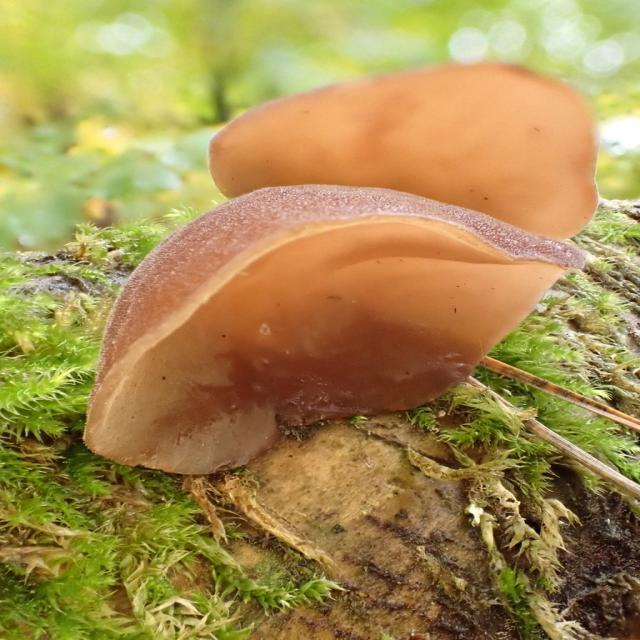Matang: (83, 177, 600, 485), (201, 62, 607, 240)
